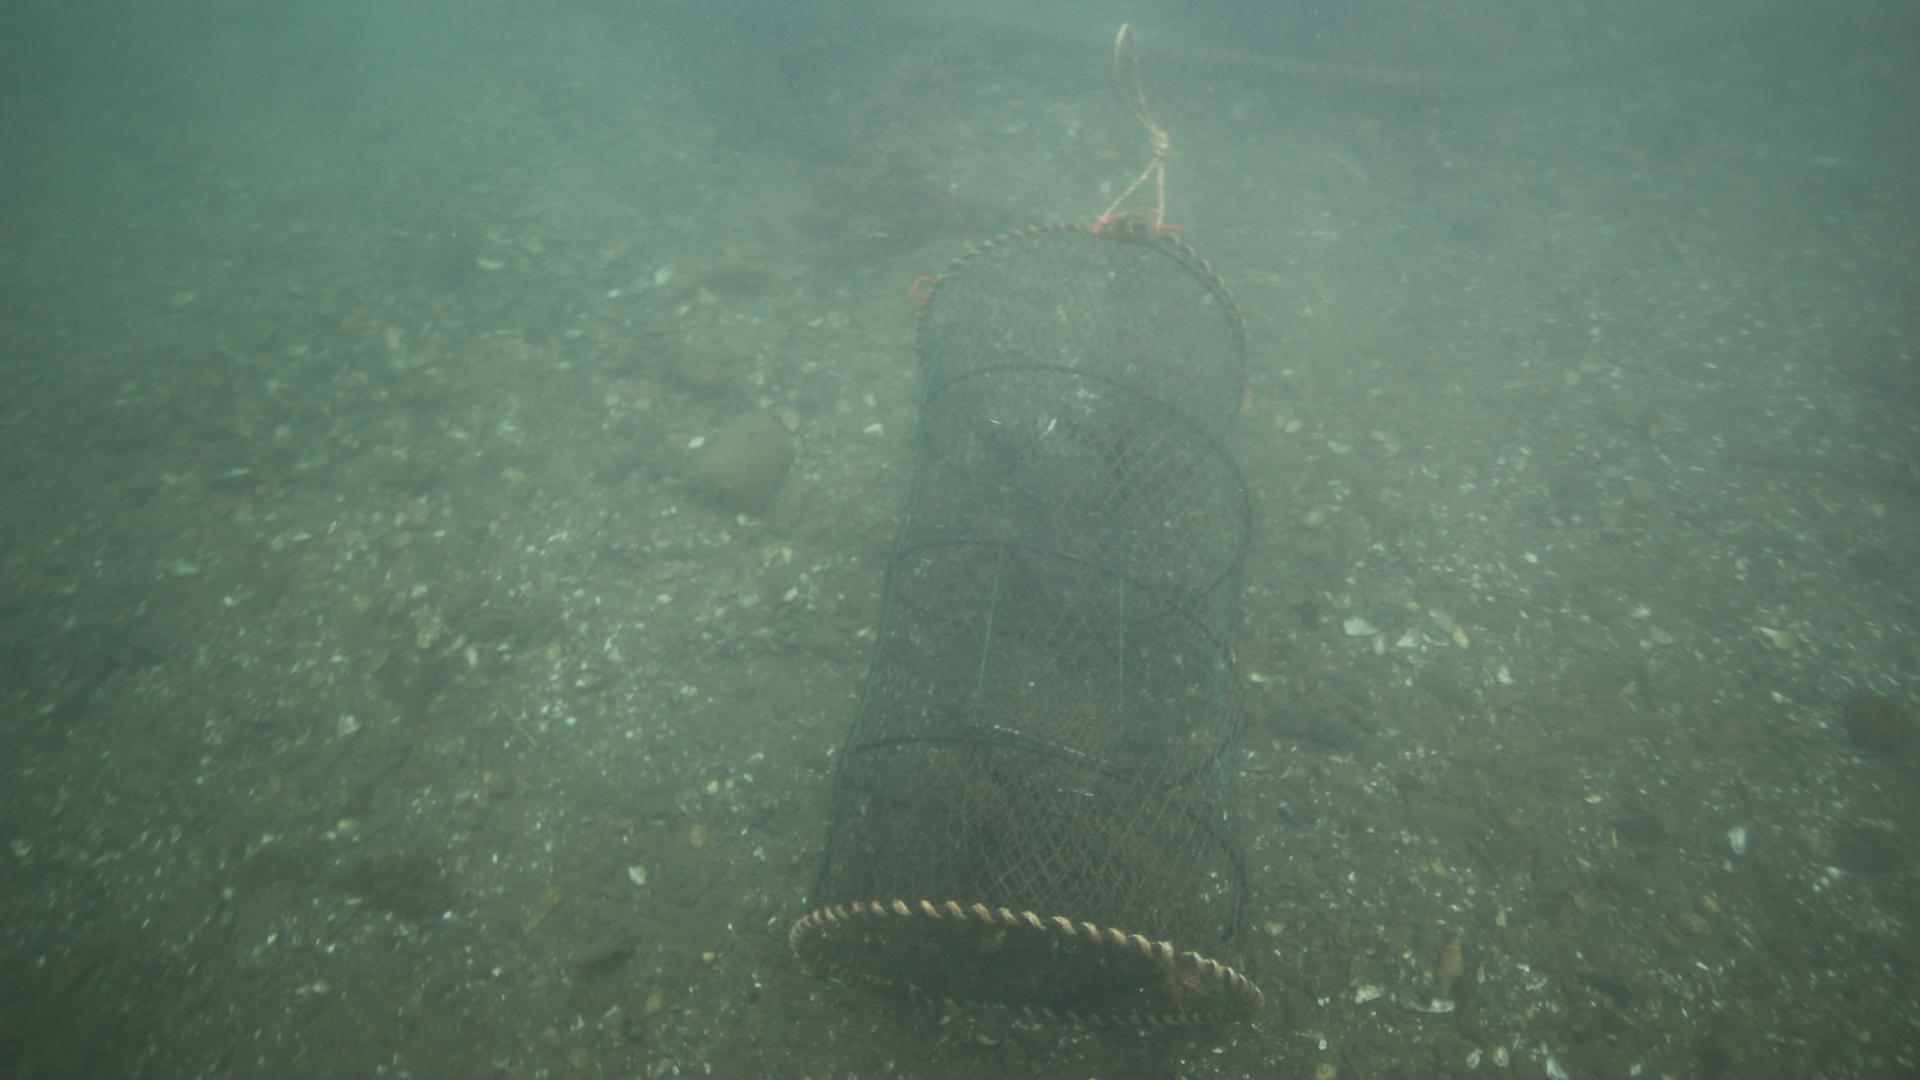bundle of ropes: (1097, 7, 1182, 241)
spring fish trap: (786, 214, 1269, 1038)
